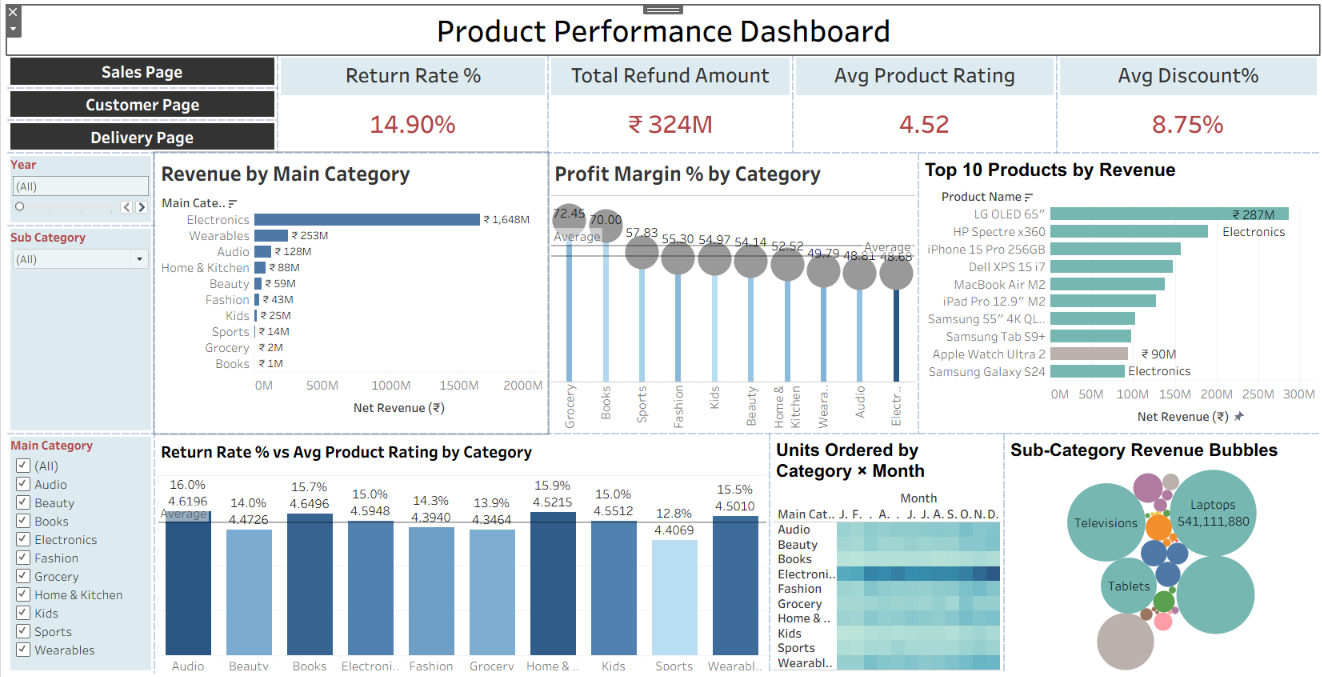

The dashboard page shown, as its layout file describes it:
{"tool":"tableau","page":{"name":"Dashboard 2","canvas":[1000,1000],"units":"permille","ordinal":1},"visuals":[{"type":"text","box":[4.8,9.4,990.3,71.6]},{"type":"dashboard-object","box":[4.8,81,203.8,49.3]},{"type":"worksheet","title":"Sheet 11","mark":"Automatic","box":[208.6,81,204.4,144.6]},{"type":"worksheet","title":"Sheet 12","mark":"Automatic","box":[413,81,184.6,144.6]},{"type":"worksheet","title":"Sheet 13","mark":"Automatic","box":[597.6,81,199,144.6]},{"type":"worksheet","title":"Sheet 14","mark":"Automatic","box":[796.7,81,198.5,144.6]},{"type":"dashboard-object","box":[4.8,130.3,203.8,47.1]},{"type":"dashboard-object","box":[4.8,177.4,203.8,48.2]},{"type":"filter","title":"Profit Margin % by Category","param":"[federated.0h8pdpr1l5hpsp1gd3y1a19098aw].[none:Year:ok]","box":[4.8,225.6,111,106.9]},{"type":"worksheet","title":"Revenue by Main Category","mark":"Automatic","rows":["Main Category"],"cols":["Net Revenue (₹)"],"box":[115.8,225.6,297.2,412.4]},{"type":"worksheet","title":"Profit Margin % by Category","mark":"Bar","rows":["Profit Margin %","Profit Margin %"],"cols":["Main Category"],"box":[413,225.6,279.4,412.4]},{"type":"worksheet","title":"Top 10 Products by Revenue Rank (per year)","mark":"Bar","rows":["Product Name"],"cols":["Net Revenue (₹)"],"box":[692.4,225.6,302.8,412.4]},{"type":"filter","title":"Sub-Category Revenue Bubbles","param":"[federated.0h8pdpr1l5hpsp1gd3y1a19098aw].[none:Sub Category:nk]","box":[4.8,332.4,111,305.5]},{"type":"filter","title":"Top 10 Products by Revenue Rank (per year)","param":"[federated.0h8pdpr1l5hpsp1gd3y1a19098aw].[none:Main Category:nk]","box":[4.8,638,110.8,352.6]},{"type":"worksheet","title":"Return Rate vs Avg Rating by Category","mark":"Bar","rows":["Calculation_1629538810449920"],"cols":["Main Category"],"box":[115.7,638,464.3,352.6]},{"type":"worksheet","title":"Units Ordered by Category × Month","mark":"Square","rows":["Main Category"],"cols":["Month"],"box":[580,638,176.6,352.6]},{"type":"worksheet","title":"Sub-Category Revenue Bubbles","mark":"Circle","box":[756.5,638,238.7,352.6]}]}

Visuals, with their boxes on the dashboard's canvas, which has no fixed pixel size, in thousandths of its width and height (x1, y1, x2, y2). These are canvas units, not pixel positions in the 1322x677 screenshot, which may show the page scaled, cropped or inside an application window:
text: x1=5, y1=9, x2=995, y2=81
dashboard-object: x1=5, y1=81, x2=209, y2=130
"Sheet 11" worksheet: x1=209, y1=81, x2=413, y2=226
"Sheet 12" worksheet: x1=413, y1=81, x2=598, y2=226
"Sheet 13" worksheet: x1=598, y1=81, x2=797, y2=226
"Sheet 14" worksheet: x1=797, y1=81, x2=995, y2=226
dashboard-object: x1=5, y1=130, x2=209, y2=177
dashboard-object: x1=5, y1=177, x2=209, y2=226
"Profit Margin % by Category" filter: x1=5, y1=226, x2=116, y2=332
"Revenue by Main Category" worksheet: x1=116, y1=226, x2=413, y2=638
"Profit Margin % by Category" worksheet (Bar marks): x1=413, y1=226, x2=692, y2=638
"Top 10 Products by Revenue Rank (per year)" worksheet (Bar marks): x1=692, y1=226, x2=995, y2=638
"Sub-Category Revenue Bubbles" filter: x1=5, y1=332, x2=116, y2=638
"Top 10 Products by Revenue Rank (per year)" filter: x1=5, y1=638, x2=116, y2=991
"Return Rate vs Avg Rating by Category" worksheet (Bar marks): x1=116, y1=638, x2=580, y2=991
"Units Ordered by Category × Month" worksheet (Square marks): x1=580, y1=638, x2=757, y2=991
"Sub-Category Revenue Bubbles" worksheet (Circle marks): x1=756, y1=638, x2=995, y2=991
